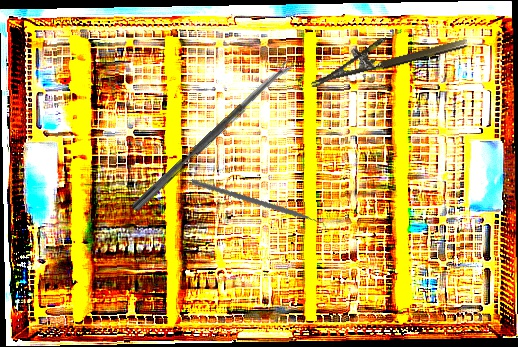Chopper: (191, 150, 328, 265)
Needle Holder: (304, 18, 469, 88)
Surgical Spoon: (130, 58, 296, 214)
